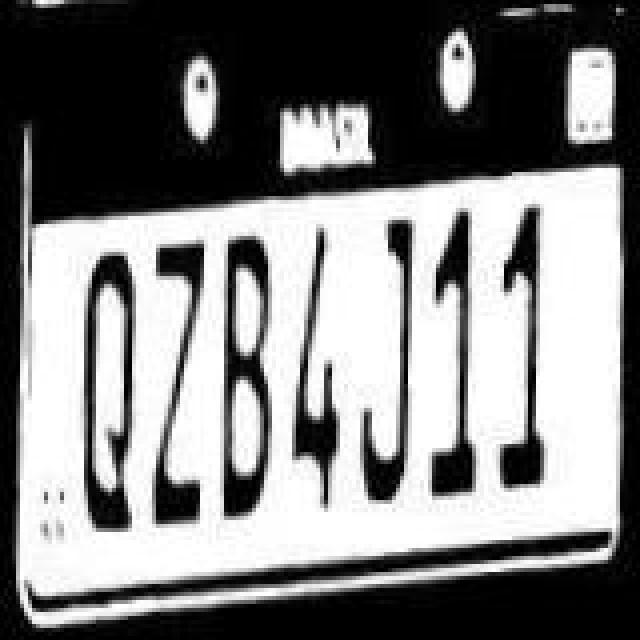1: (482, 200, 566, 496), (412, 202, 488, 506)
4: (274, 212, 354, 512)
B: (198, 232, 278, 520)
J: (344, 214, 420, 506)
Q: (64, 242, 148, 534)
Z: (136, 228, 212, 524)
